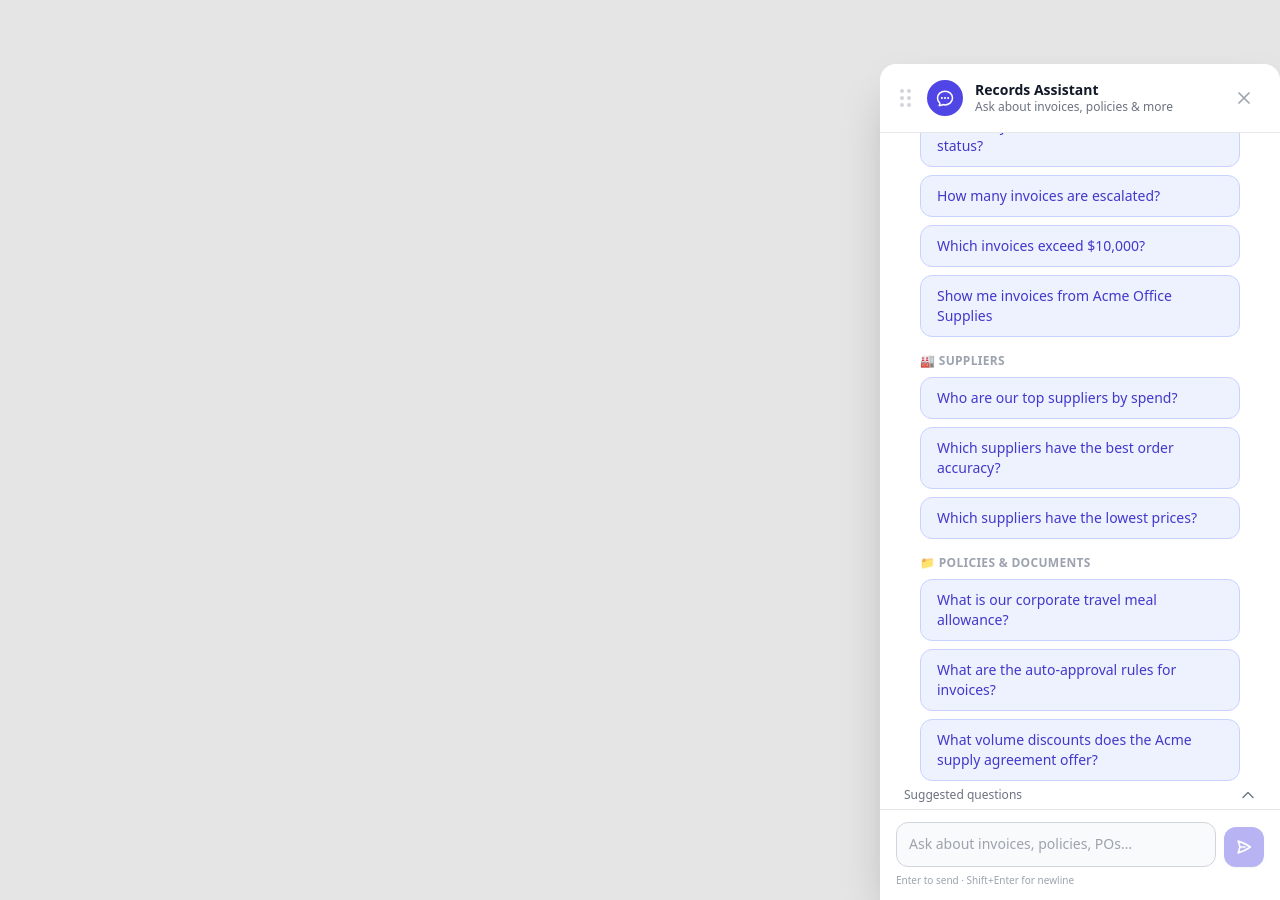
Test: ChatDrawer › shows an error banner when the stream yields an error event
The width and height of the screenshot is (1280, 900).
(page scrolled)
Type "hello" into the text box with placeholder "Ask about invoices, policies, POs…". click: (1056, 845)
box: [896,822,1216,867]
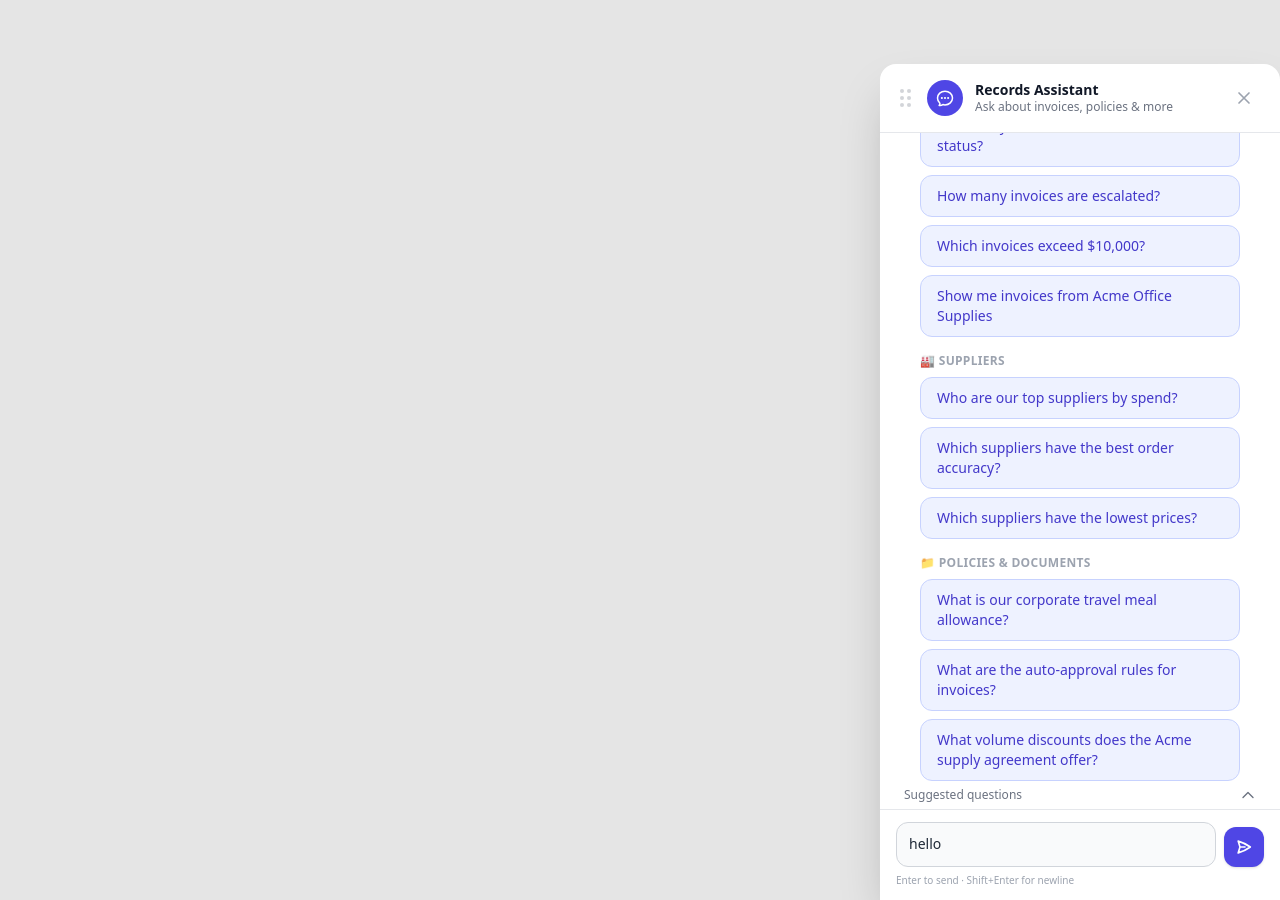
Click the button named "send". click: click(1244, 847)
box: [1224,827,1264,867]
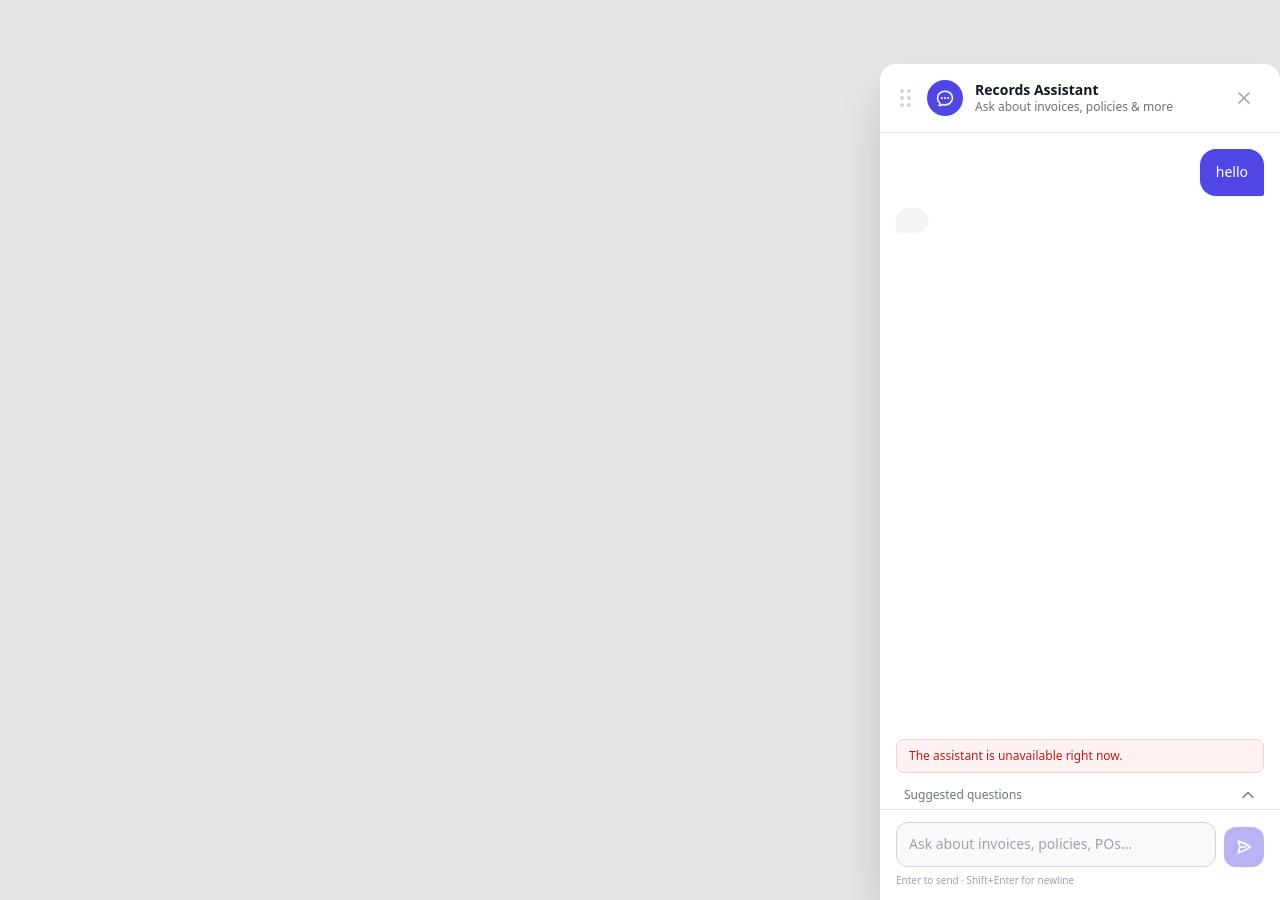
Expected: the text "The assistant is unavailable right now." is shown, [896,739,1264,773]
